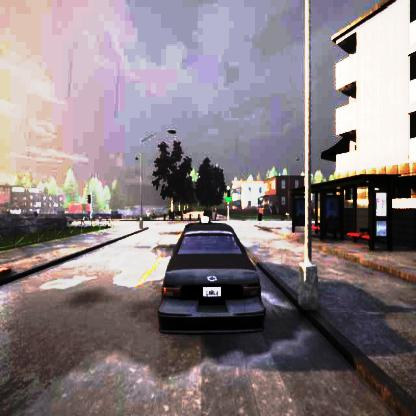vehicle: (158, 224, 262, 332)
